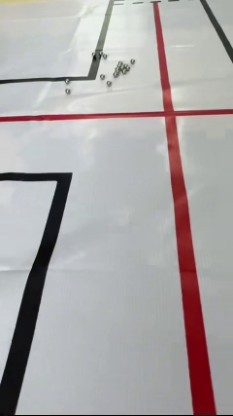ironball: (101, 78, 115, 89), (60, 86, 73, 96), (110, 63, 121, 72), (123, 62, 132, 73), (62, 75, 72, 84), (97, 71, 107, 80), (101, 49, 109, 60), (111, 69, 119, 79), (117, 67, 126, 75), (129, 55, 135, 65), (96, 49, 103, 55), (117, 59, 123, 66), (90, 49, 95, 56)
